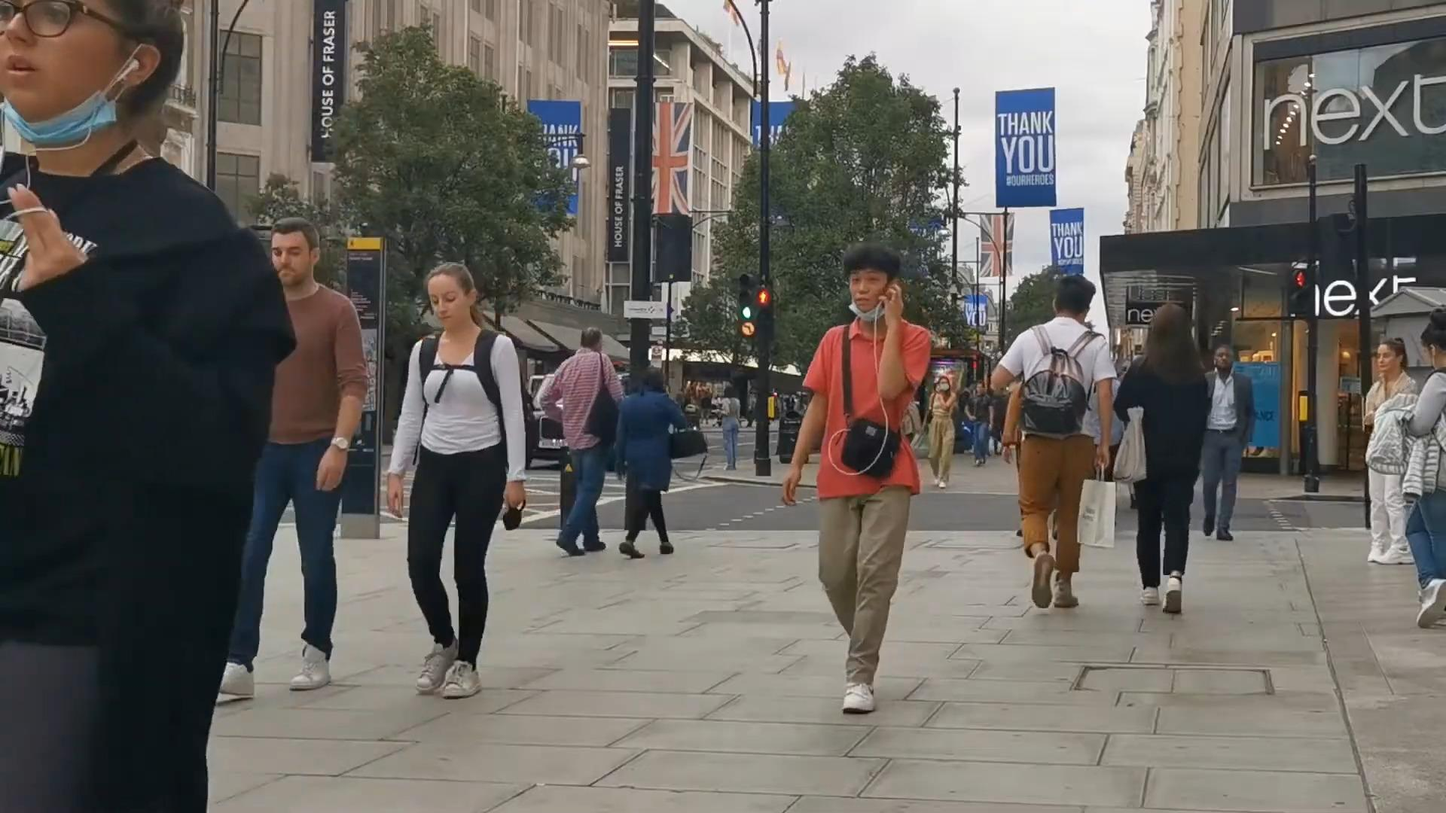no-helmet: (0, 0, 185, 146), (843, 241, 900, 324), (422, 262, 477, 326), (272, 217, 321, 287), (1145, 304, 1195, 356), (1055, 274, 1096, 324), (1420, 308, 1446, 370), (1377, 337, 1407, 372), (639, 367, 667, 394), (581, 327, 603, 353), (1213, 345, 1234, 371), (938, 376, 951, 392)
